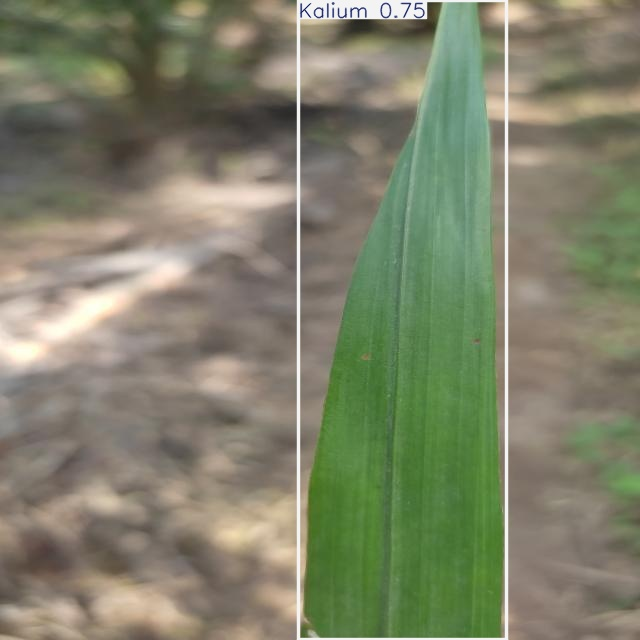Kalium: (298, 0, 507, 640)
